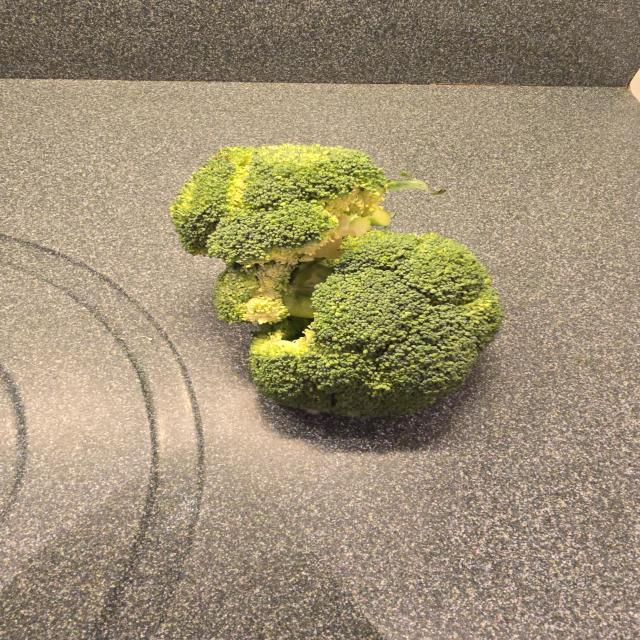Broccoli: (157, 129, 514, 435)
